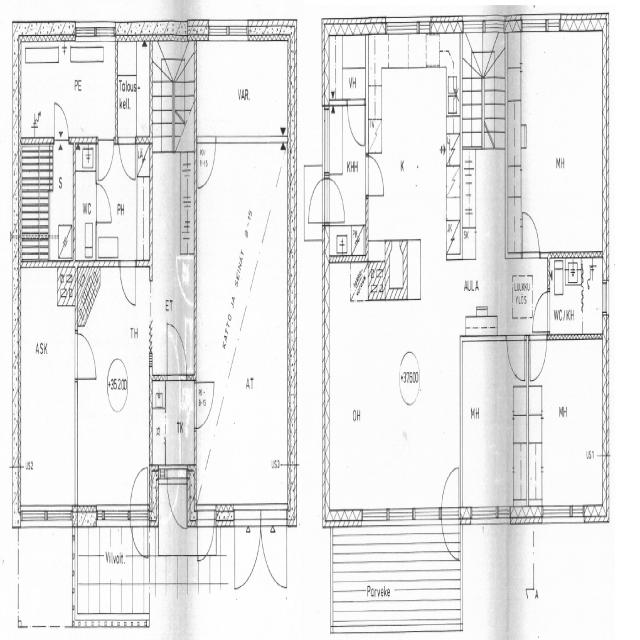door: (326, 101, 367, 240), (439, 461, 462, 568), (74, 328, 98, 385), (128, 461, 150, 521), (364, 149, 387, 203), (196, 133, 217, 191), (506, 331, 528, 386), (166, 476, 187, 530), (118, 255, 138, 309), (528, 331, 548, 385), (346, 96, 366, 150), (195, 376, 215, 429), (326, 176, 347, 226), (522, 207, 542, 259), (307, 174, 326, 228), (118, 131, 137, 183), (96, 134, 116, 182), (532, 288, 552, 336), (197, 515, 216, 561), (95, 181, 113, 228), (52, 98, 70, 143)
window: (20, 503, 68, 535), (542, 501, 586, 529), (206, 17, 248, 44), (522, 10, 563, 36), (386, 13, 426, 39), (405, 499, 442, 526), (468, 502, 504, 528), (97, 501, 131, 528), (320, 103, 331, 177), (360, 503, 391, 529), (386, 500, 416, 526), (76, 17, 99, 40), (462, 14, 485, 32), (602, 276, 610, 321)
zone: (196, 135, 290, 492), (521, 28, 605, 256), (76, 262, 150, 518), (368, 40, 457, 248), (17, 265, 77, 522), (529, 334, 606, 514), (460, 329, 521, 518), (196, 34, 290, 142), (21, 36, 116, 136), (16, 133, 72, 264), (98, 135, 152, 265), (326, 99, 368, 240), (547, 251, 605, 338), (150, 378, 197, 474), (116, 35, 151, 141), (326, 30, 368, 102), (73, 152, 97, 268)
